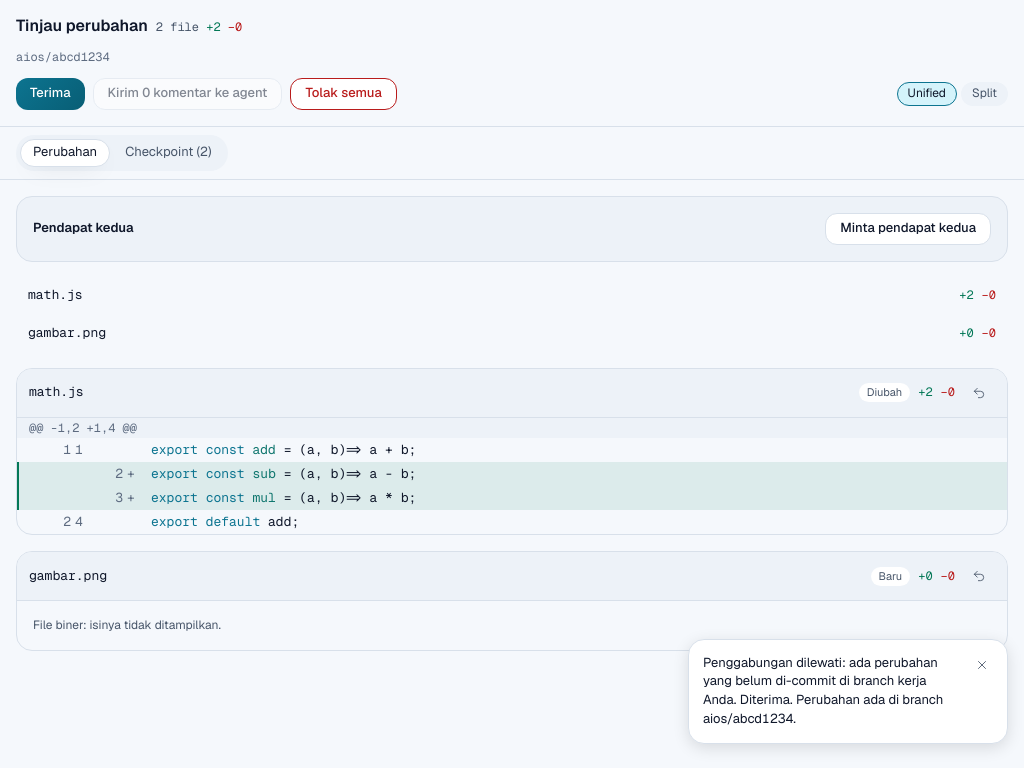
Tinjau perubahan: terima dan tolak › repo detached HEAD: pilihan merge dinonaktifkan; pesan commit kosong tidak bisa dikirim
The image size is (1024, 768).
Expected: the heading "Tinjau perubahan" is shown, [16, 16, 148, 37]
Expected: the element "math.js" is shown, [16, 368, 1008, 535]
Click the button "Terima" at (50, 94), box [16, 78, 85, 110]
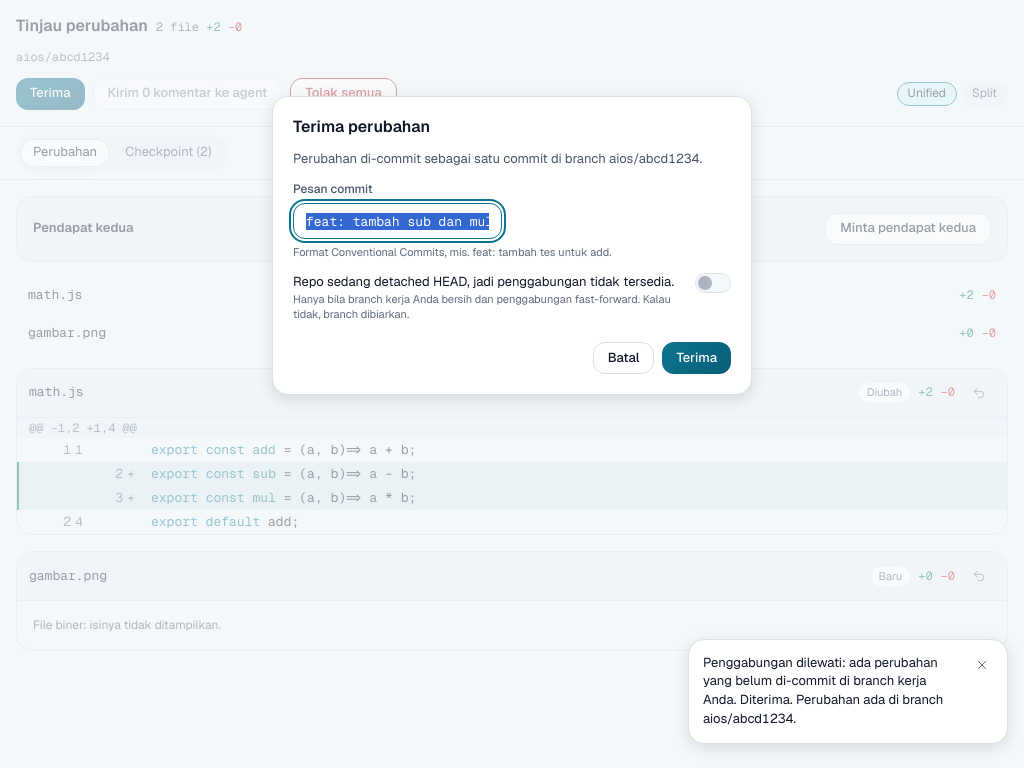
Now the switch is disabled, box [695, 273, 731, 293]
Clear the field labelled "Pesan commit" at (398, 221), box [293, 203, 502, 239]
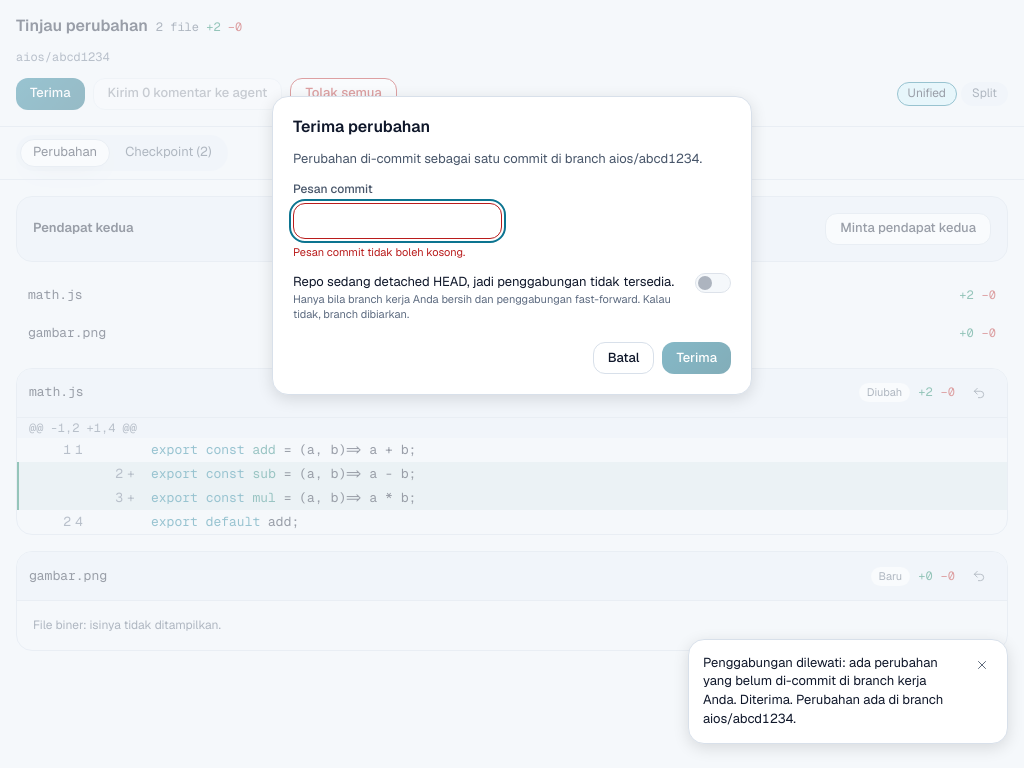
Now the text "Pesan commit tidak boleh kosong." is shown, box [293, 245, 465, 259]
Now the button "Terima" is disabled, box [662, 342, 731, 374]
